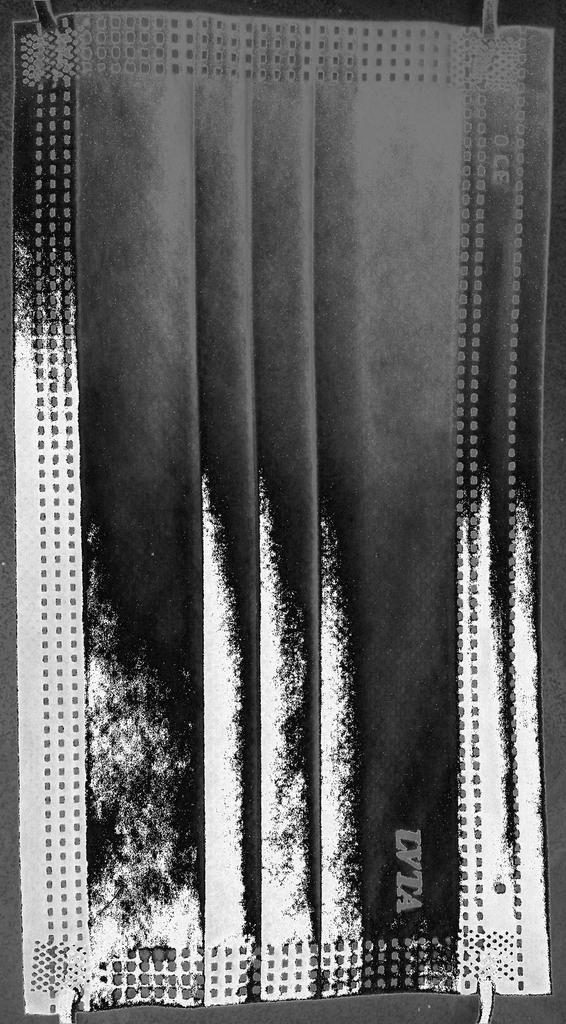High GSM: (7, 463, 556, 1013)
